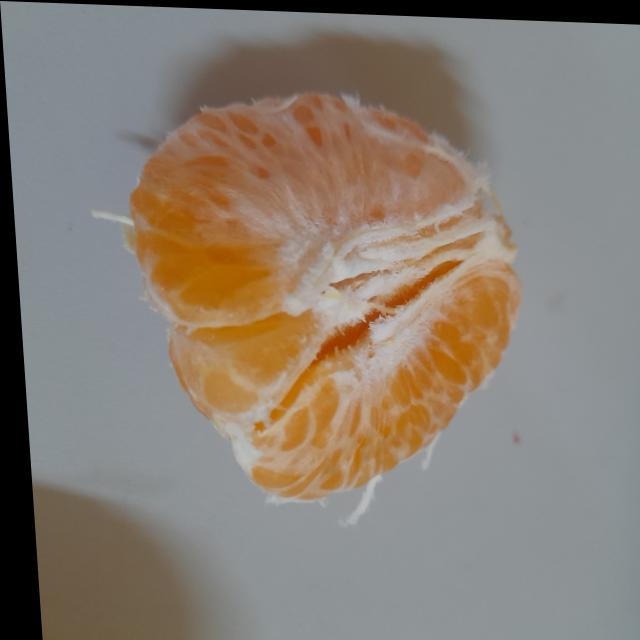Cam: (106, 76, 528, 511)
